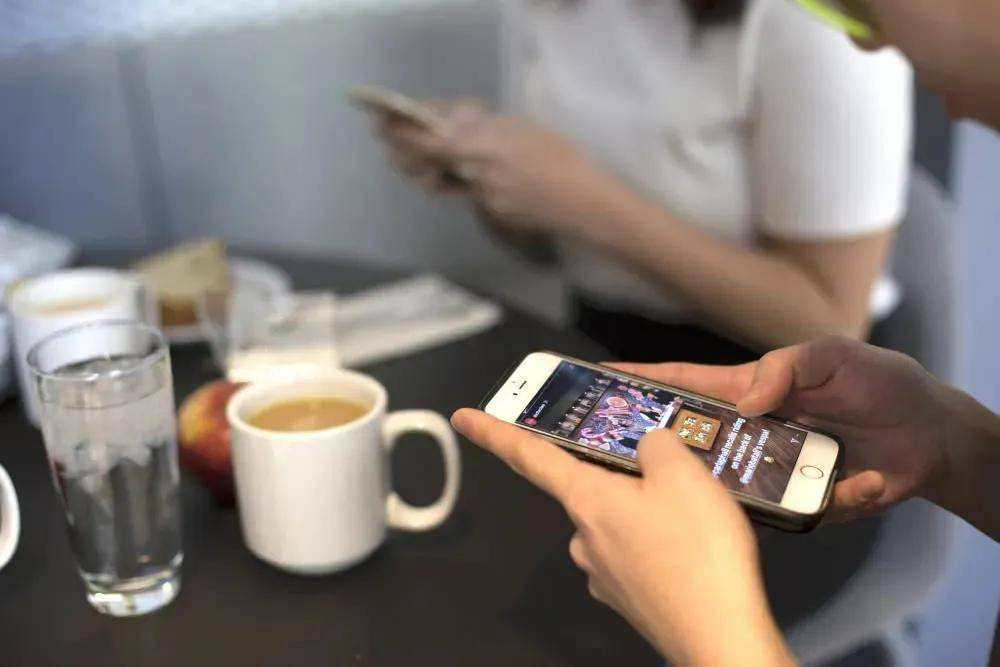reading: (441, 320, 980, 660)
